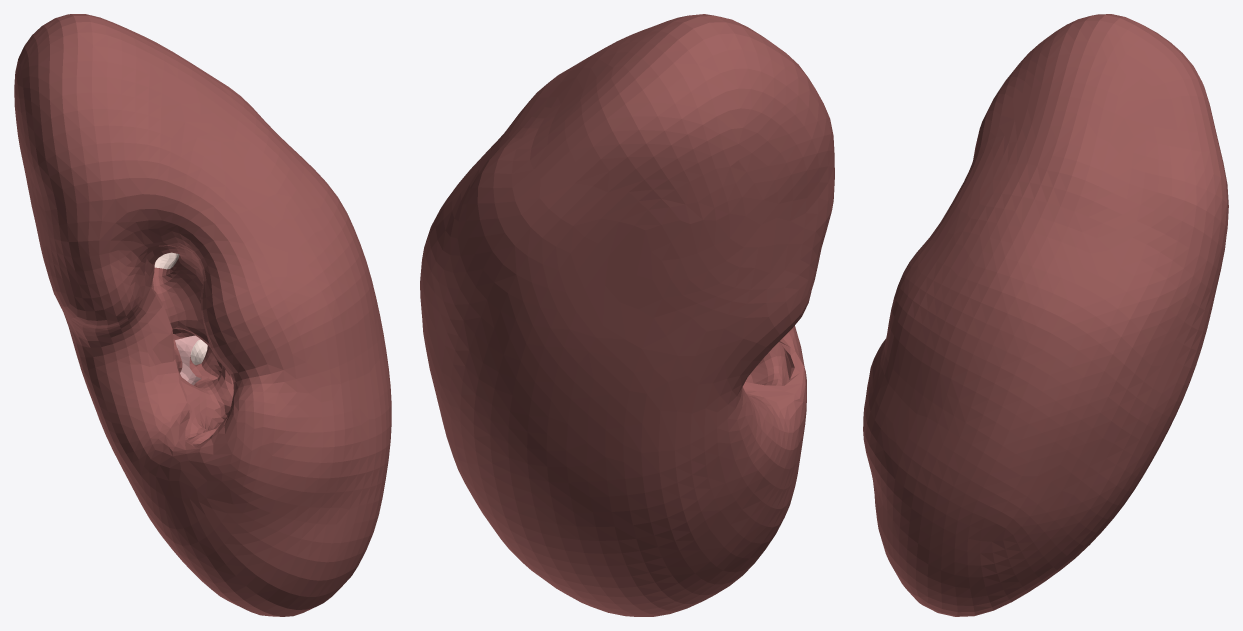
File: VH_F_Kidney_L_0.8.glb
3 views of the same model, side by side, from view 1: azimuth 30°, elevation 25°; view 2: azimuth 150°, elevation 25°; view 3: azimuth 270°, elevation 25° (orthographic). The views are drawn at different scales.
Parts seen in each view (by area): view 1: VH_F_kidney_capsule_L, VH_F_hilum_of_kidney_L, VH_F_renal_pyramid_L_g, VH_F_renal_column_L; view 2: VH_F_kidney_capsule_L, VH_F_hilum_of_kidney_L; view 3: VH_F_kidney_capsule_L.
Part boxes in pixels (left/top/right/bottom): VH_F_kidney_capsule_L: left=14, top=14, right=391, bottom=616; VH_F_hilum_of_kidney_L: left=144, top=245, right=233, bottom=444; VH_F_renal_pyramid_L_g: left=175, top=335, right=201, bottom=385; VH_F_renal_column_L: left=154, top=252, right=207, bottom=364; VH_F_kidney_capsule_L: left=420, top=14, right=834, bottom=616; VH_F_hilum_of_kidney_L: left=745, top=342, right=789, bottom=385; VH_F_kidney_capsule_L: left=863, top=14, right=1228, bottom=616.
Size of the model in its own units: 0.0731 by 0.1249 by 0.0776.
